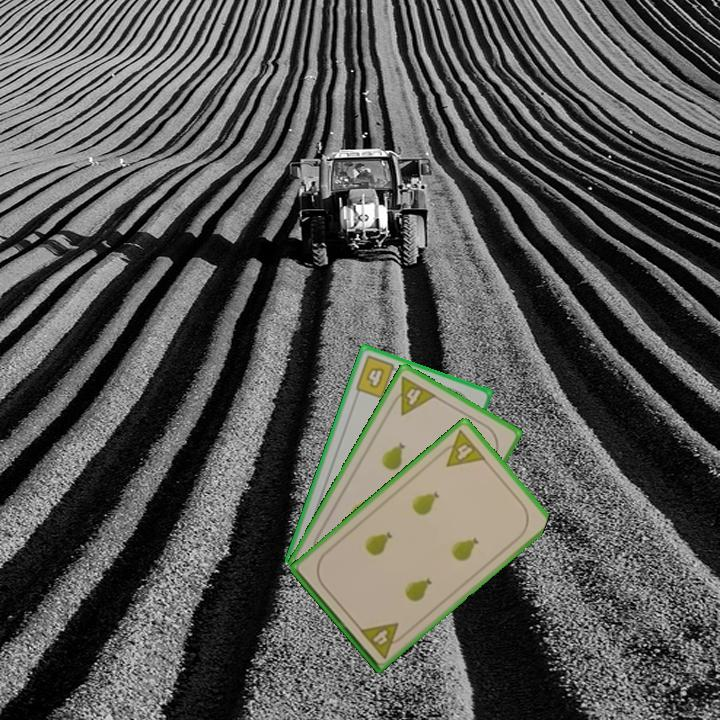4b: (352, 352, 404, 401)
4p: (386, 372, 439, 418), (434, 426, 489, 470), (356, 618, 409, 661)
